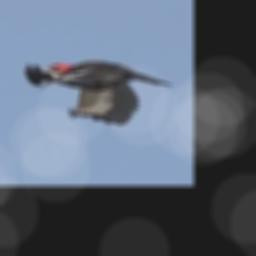Woodpecker: (25, 60, 173, 126)
